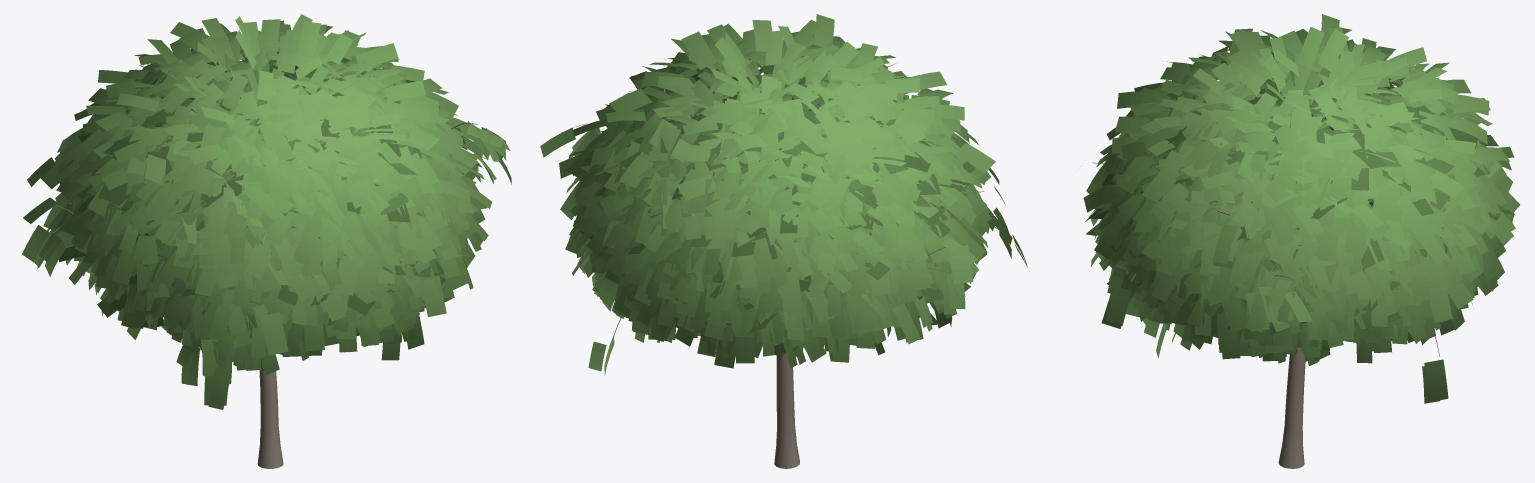
The model's file is cay_1.glb.
The picture shows the model from 3 angles, left to right: view 1: azimuth 30°, elevation 25°; view 2: azimuth 150°, elevation 25°; view 3: azimuth 270°, elevation 25°; orthographic projection.
Parts seen in each view (by area): view 1: E:\gialaptrano\models\cay\cay_1; view 2: E:\gialaptrano\models\cay\cay_1; view 3: E:\gialaptrano\models\cay\cay_1.
Part boxes in pixels (bbox=[...]): E:\gialaptrano\models\cay\cay_1: bbox=[22, 14, 511, 468]; E:\gialaptrano\models\cay\cay_1: bbox=[540, 14, 1029, 468]; E:\gialaptrano\models\cay\cay_1: bbox=[1083, 14, 1519, 468].
Bounding box in the file's own units: 10.24 × 9.07 × 8.83.
